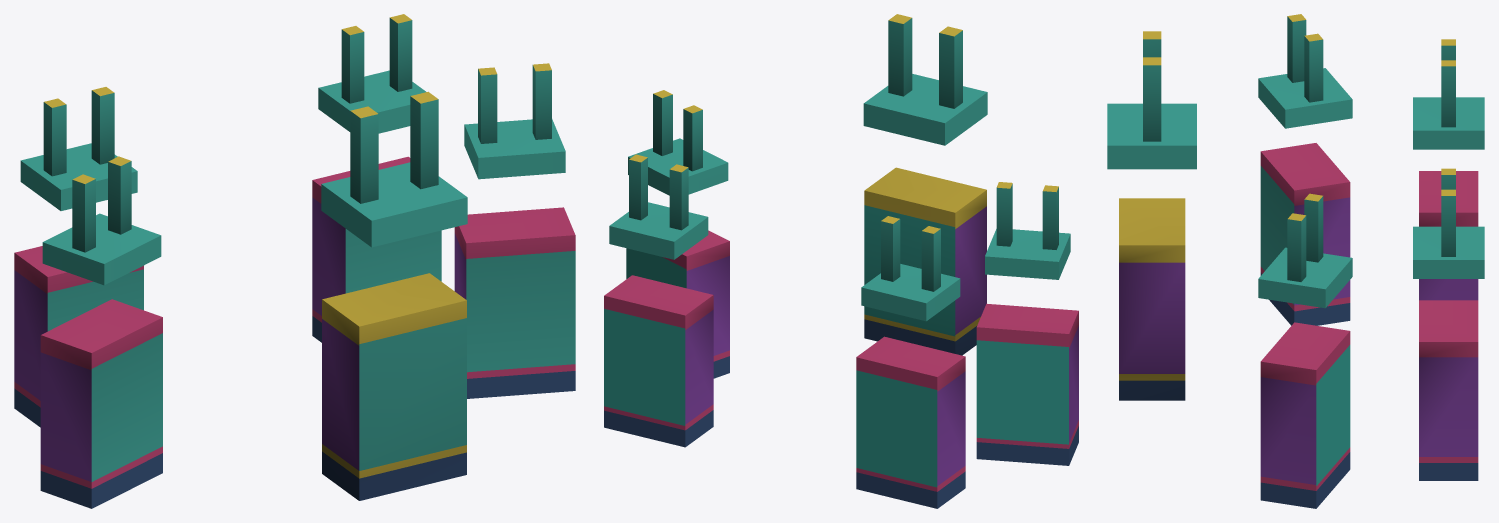
Rendered from out-of-towners-lod3.glb.
3 renders of one model, left to right at view 1: azimuth 30°, elevation 25°; view 2: azimuth 150°, elevation 25°; view 3: azimuth 270°, elevation 25°, orthographic. The views are drawn at different scales.
Parts seen in each view (by area): view 1: cap_torso, att3_torso, att2_torso, cap_hat, att1_torso, att3_hat, att0_torso, att2_hat, att0_hat, att1_hat; view 2: att0_torso, att1_torso, att3_torso, cap_torso, cap_hat, att1_hat, att0_hat, att2_torso, att3_hat, att2_hat; view 3: att2_torso, cap_torso, att0_torso, att3_torso, cap_hat, att2_hat, att3_hat, att0_hat, att1_hat, att1_torso.
Part boxes in pixels (left/top/right/bottom): cap_torso: left=322, top=273, right=466, bottom=500; att3_torso: left=40, top=299, right=162, bottom=508; att2_torso: left=454, top=207, right=575, bottom=398; cap_hat: left=321, top=91, right=467, bottom=247; att1_torso: left=14, top=246, right=143, bottom=427; att3_hat: left=42, top=156, right=161, bottom=285; att0_torso: left=312, top=156, right=441, bottom=342; att2_hat: left=464, top=63, right=565, bottom=179; att0_hat: left=318, top=14, right=425, bottom=133; att1_hat: left=20, top=87, right=137, bottom=210; att0_torso: left=604, top=275, right=713, bottom=447; att1_torso: left=856, top=336, right=965, bottom=508; att3_torso: left=976, top=303, right=1078, bottom=465; cap_torso: left=864, top=167, right=986, bottom=355; cap_hat: left=863, top=14, right=987, bottom=145; att1_hat: left=861, top=216, right=960, bottom=321; att0_hat: left=609, top=154, right=708, bottom=259; att2_torso: left=626, top=230, right=729, bottom=378; att3_hat: left=985, top=182, right=1070, bottom=279; att2_hat: left=628, top=90, right=728, bottom=195; att2_torso: left=1260, top=322, right=1350, bottom=508; cap_torso: left=1119, top=198, right=1185, bottom=400; att0_torso: left=1419, top=300, right=1478, bottom=480; att3_torso: left=1260, top=143, right=1350, bottom=325; cap_hat: left=1107, top=31, right=1196, bottom=169; att2_hat: left=1258, top=193, right=1352, bottom=308; att3_hat: left=1258, top=14, right=1352, bottom=128; att0_hat: left=1413, top=168, right=1484, bottom=278; att1_hat: left=1413, top=39, right=1484, bottom=149; att1_torso: left=1419, top=171, right=1478, bottom=300.
Bounding box in the file's own units: 2.18 × 1.55 × 1.53.
